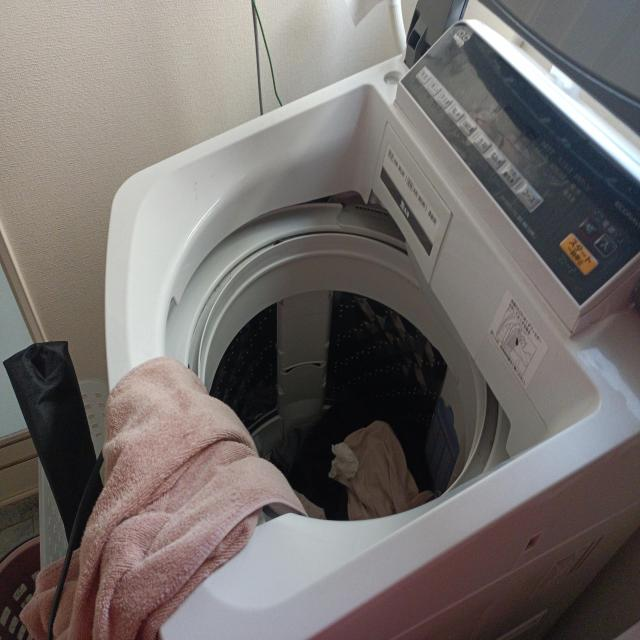衛生紙: (324, 440, 362, 485)
